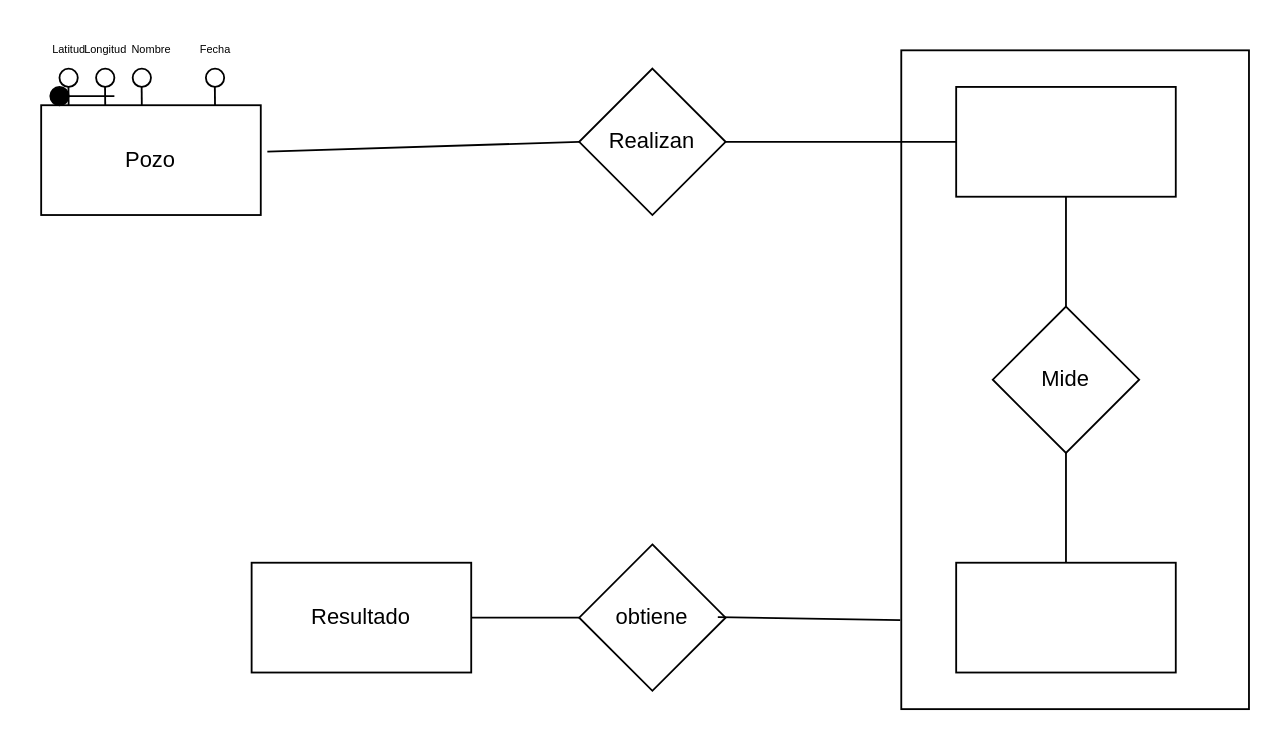
Some shapes in this 1281 by 741 pixel diagram are drawn without their labels. Here are the shapes that lost their labels. From the top down, the box of each, then its label:
(954, 85, 1176, 197): Monitoreo
(954, 561, 1176, 673): Parametro
